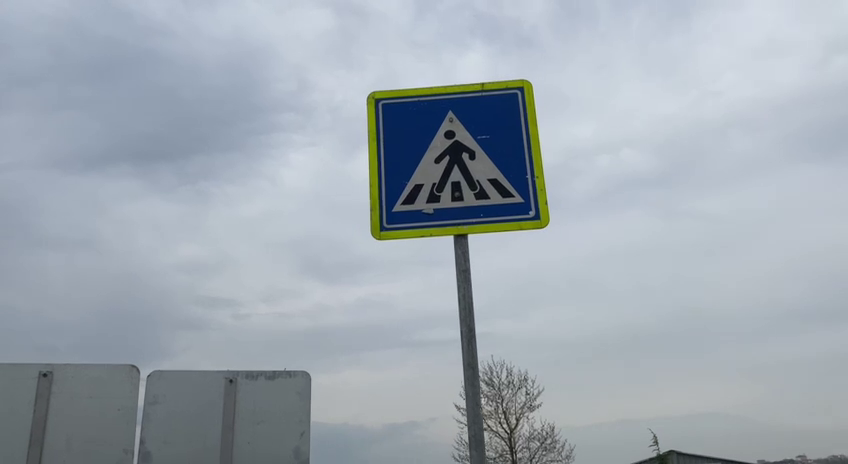pedestrianCrossing: (366, 78, 551, 243)
